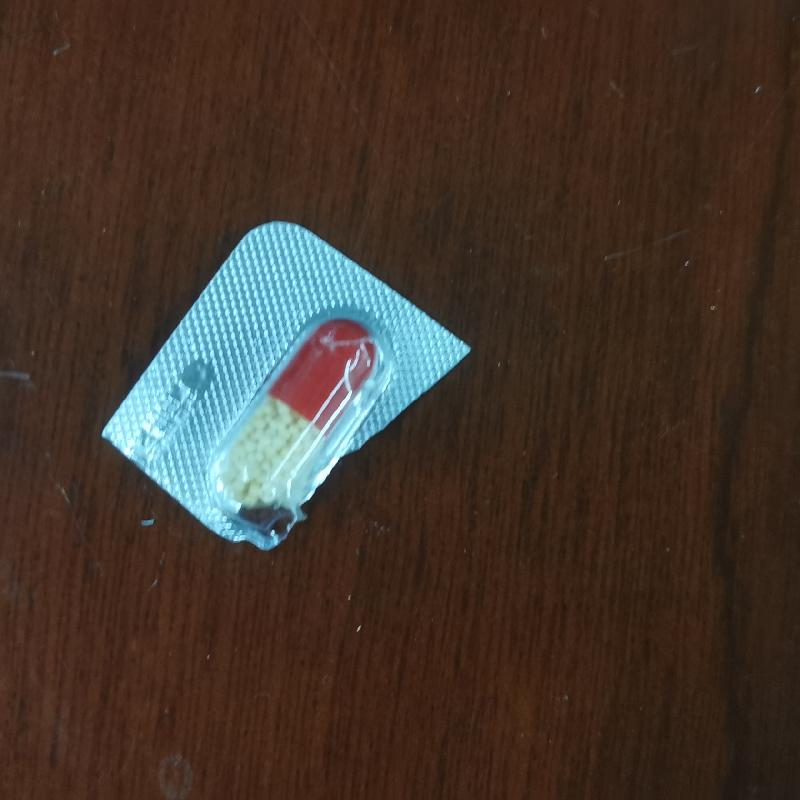pills: (190, 303, 394, 524)
